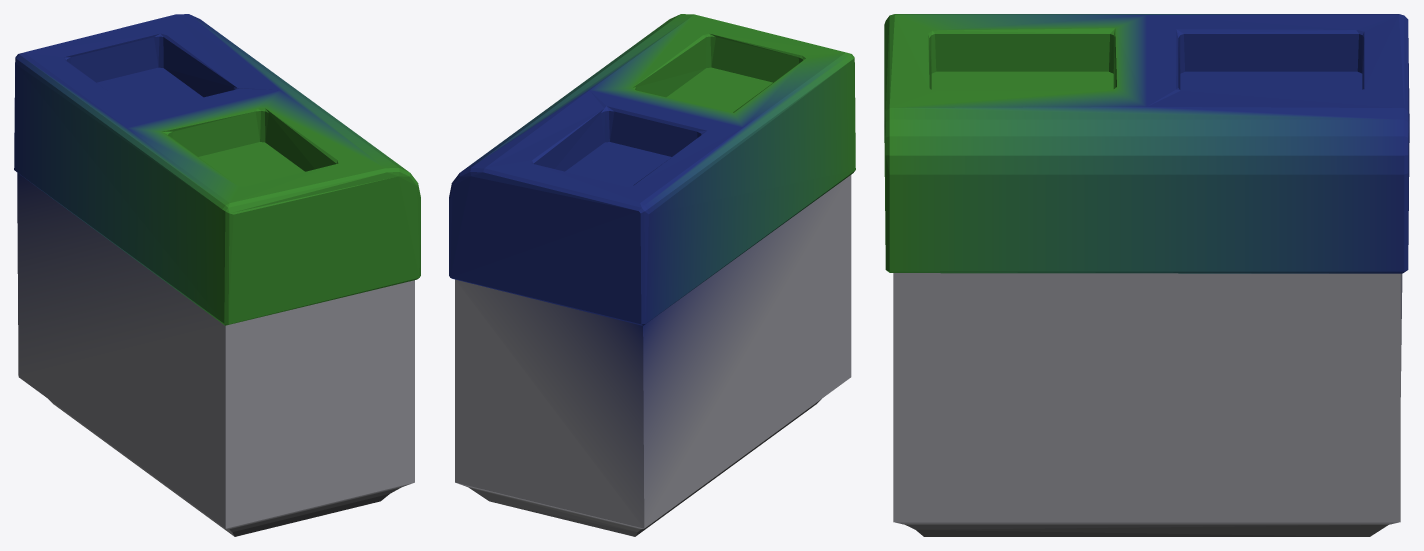
File: poubelle-DuNZYN_H.glb
3 renders of one model, left to right at view 1: azimuth 30°, elevation 25°; view 2: azimuth 150°, elevation 25°; view 3: azimuth 270°, elevation 25°, orthographic. The views are drawn at different scales.
Parts seen in each view (by area): view 1: 14.Trashcan_Cube.145; view 2: 14.Trashcan_Cube.145; view 3: 14.Trashcan_Cube.145.
Part boxes in pixels (<box>): 14.Trashcan_Cube.145: <box>14,14,420,536</box>; 14.Trashcan_Cube.145: <box>449,14,855,536</box>; 14.Trashcan_Cube.145: <box>884,14,1409,536</box>.
Size of the model in its own units: 0.4203 by 0.7048 by 0.7902.
